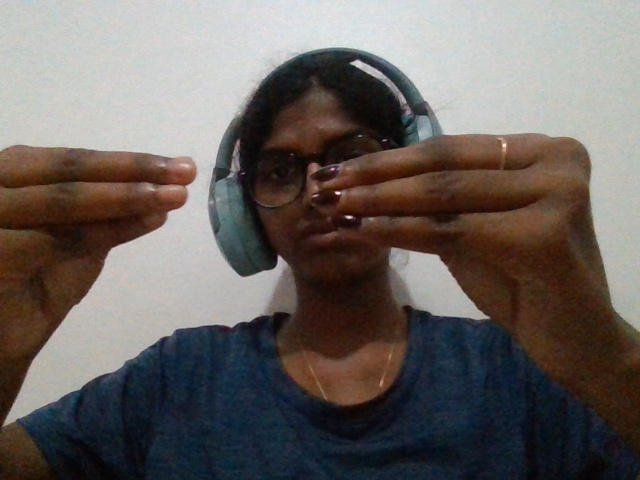More: (1, 104, 623, 463)
